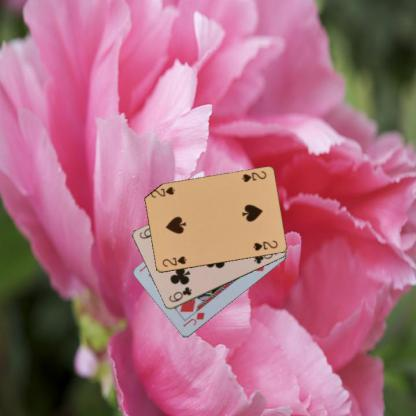2s: (239, 168, 268, 184), (159, 254, 188, 268)
6c: (166, 284, 193, 304)
Jd: (180, 310, 206, 328)
